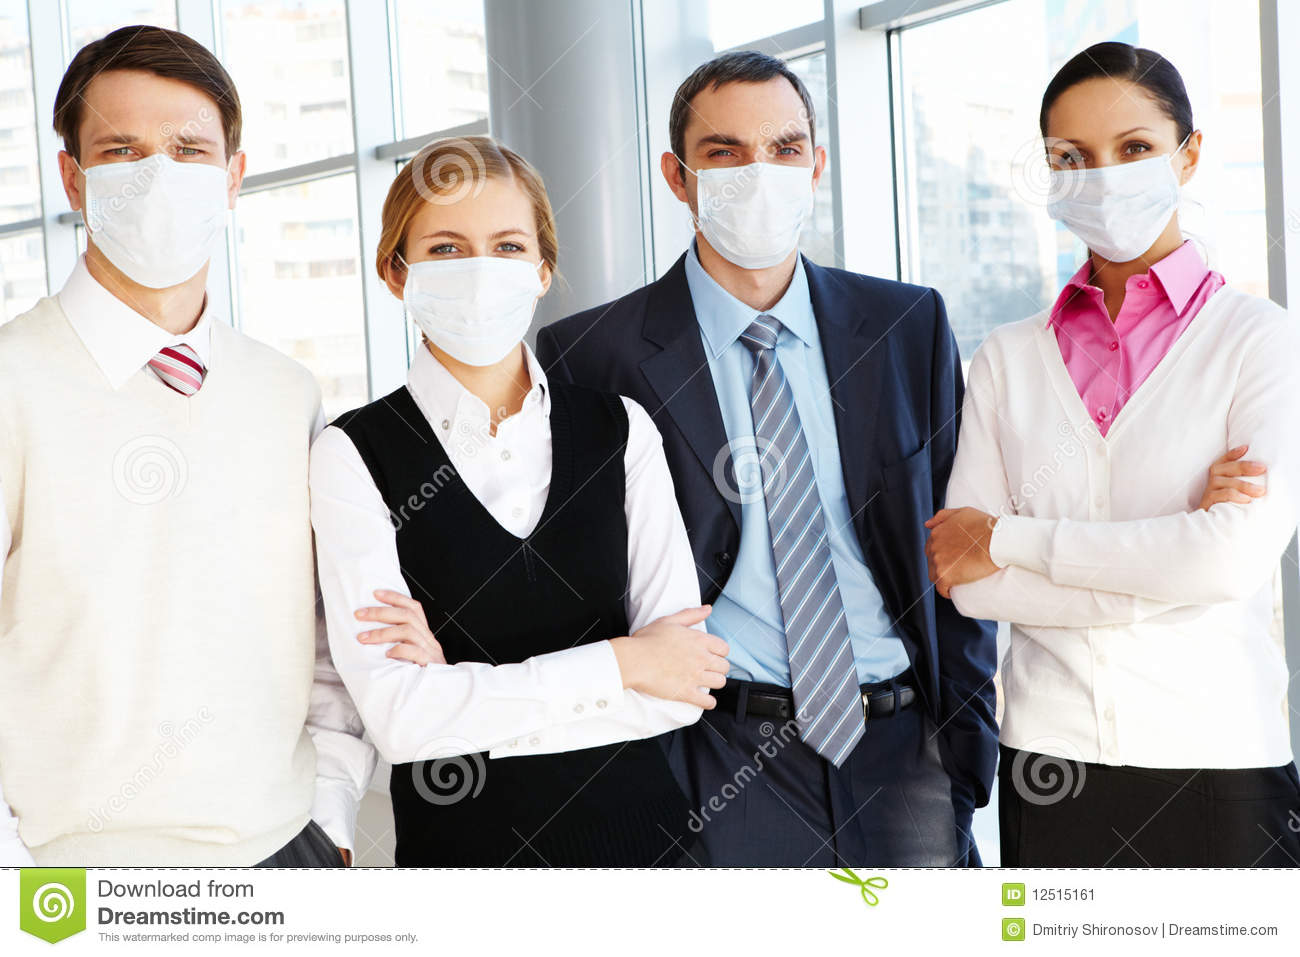mask: (81, 152, 254, 310), (1035, 171, 1203, 276), (404, 252, 535, 363), (683, 164, 823, 267)
